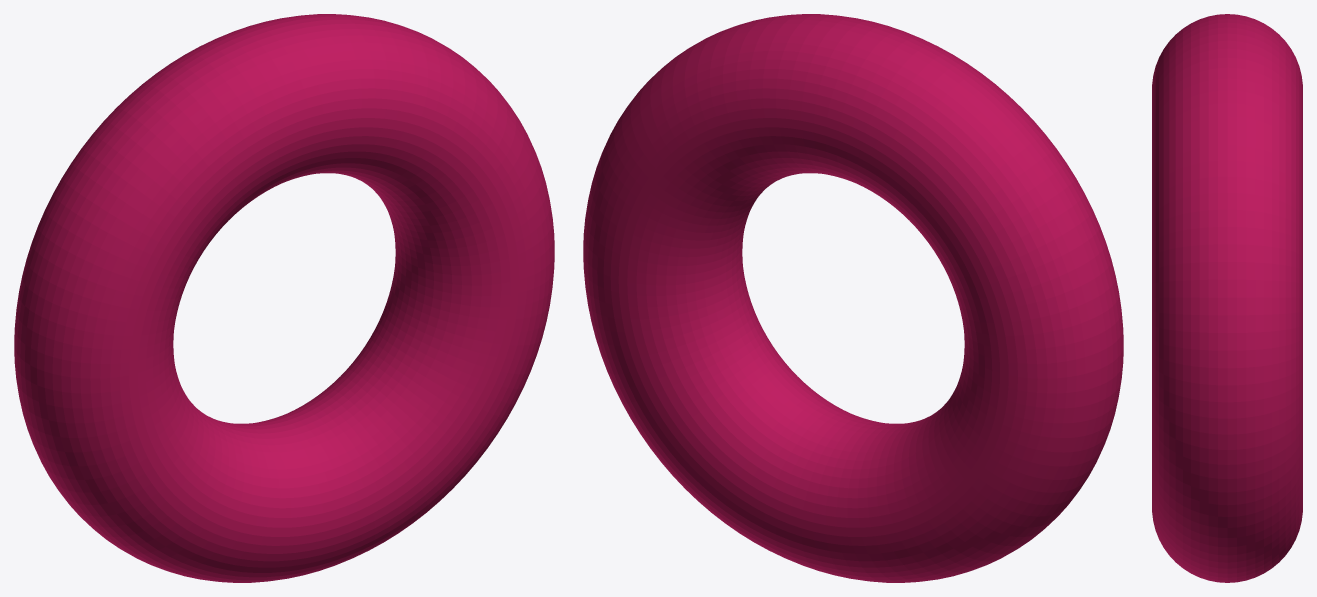
3 views of the same model, side by side, from view 1: azimuth 30°, elevation 25°; view 2: azimuth 150°, elevation 25°; view 3: azimuth 270°, elevation 25° (orthographic). The views are drawn at different scales.
Visible parts, largest first — view 1: world; view 2: world; view 3: world.
Part boxes in pixels (<box>): world: <box>14,14,554,582</box>; world: <box>583,14,1123,582</box>; world: <box>1152,14,1302,582</box>.
Bounding box in the file's own units: 23.6 × 23.6 × 6.25.
